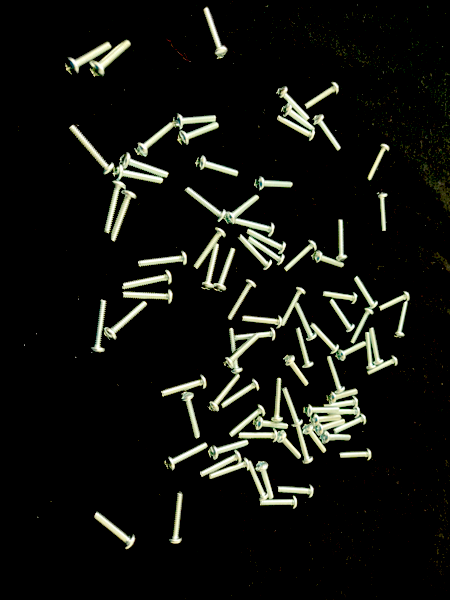longscrew: (68, 123, 115, 177), (104, 300, 149, 342), (64, 40, 113, 78), (87, 38, 132, 79), (92, 511, 137, 552), (184, 186, 227, 224), (109, 189, 138, 243), (133, 121, 175, 158), (201, 7, 228, 60), (119, 151, 170, 179), (237, 234, 274, 272), (101, 180, 127, 234), (206, 373, 241, 413), (227, 403, 267, 438), (163, 442, 209, 472), (194, 227, 226, 270), (222, 334, 260, 370), (226, 277, 257, 321), (220, 377, 261, 410), (275, 85, 311, 122), (200, 449, 243, 479), (223, 194, 261, 227), (247, 235, 286, 267), (112, 163, 165, 186), (87, 300, 109, 355), (245, 228, 287, 256), (160, 373, 207, 398), (121, 269, 174, 291), (276, 114, 316, 143), (283, 240, 318, 273), (177, 121, 221, 147), (312, 114, 342, 152), (178, 391, 201, 440), (280, 286, 307, 327), (208, 456, 250, 482), (280, 102, 316, 132), (213, 248, 237, 293), (137, 250, 188, 271), (194, 155, 240, 178), (199, 244, 221, 292), (304, 81, 340, 110), (309, 322, 340, 355), (328, 299, 357, 334), (293, 302, 318, 342), (247, 460, 270, 503), (366, 143, 391, 182), (120, 289, 174, 307), (166, 491, 184, 545), (349, 307, 375, 344), (282, 353, 310, 387), (352, 276, 379, 311), (281, 387, 304, 428), (208, 439, 250, 461), (294, 327, 315, 370), (225, 328, 244, 375), (325, 355, 346, 395), (173, 113, 217, 132), (232, 218, 275, 237), (276, 430, 302, 461), (295, 425, 315, 465), (303, 423, 328, 455), (333, 413, 368, 435), (255, 461, 274, 500), (335, 340, 367, 363), (365, 355, 399, 376), (378, 291, 411, 312), (254, 176, 294, 193), (392, 302, 410, 339), (368, 327, 385, 366), (235, 327, 276, 343), (237, 428, 278, 444), (311, 250, 345, 269), (240, 315, 283, 330), (270, 377, 284, 423), (314, 418, 347, 437), (259, 495, 298, 511), (375, 192, 390, 233), (320, 290, 359, 305), (276, 484, 315, 499), (252, 416, 290, 431), (335, 219, 348, 262), (304, 403, 341, 418), (325, 388, 359, 404), (323, 396, 360, 410), (337, 448, 373, 462), (364, 332, 377, 370), (320, 431, 353, 445), (326, 406, 361, 419), (309, 414, 343, 427)
